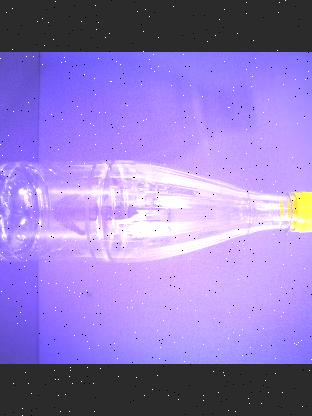Plastic Bottle: (0, 161, 312, 263)
